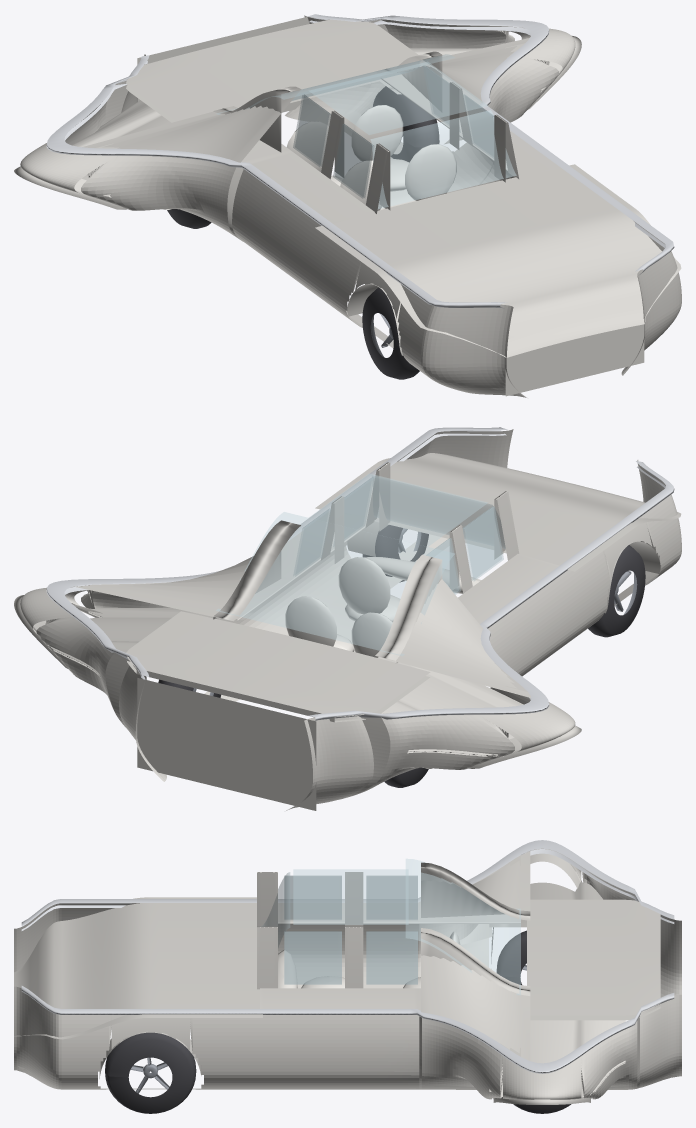
File: ev-sedan-outboard.glb
The picture shows the model from 3 angles, top to bottom: view 1: azimuth 30°, elevation 25°; view 2: azimuth 150°, elevation 25°; view 3: azimuth 270°, elevation 25°; orthographic projection. The views are drawn at different scales.
Parts seen in each view (by area): view 1: BodyHood, BodySide_L, BodyDeck, BodySide_R, Windshield, RoofGlass, BodyCPillar_L, BodyNose, BodyBeltLip_L, BodyBeltLip_R, BodyBeltShelf_L, BodyCPillar_R (+21 smaller); view 2: BodySide_L, BodyDeck, BodyHood, RearWindow, BodyFascia, BodySide_R, BodyCPillar_L, RoofGlass, BodyCPillar_R, BodyBeltLip_L, Windshield, BodyBeltLip_R (+22 smaller); view 3: BodySide_R, BodyHood, BodyDeck, BodySide_L, BodyCPillar_R, RearWindow, RoofGlass, BodyCPillar_L, BodyBeltLip_R, WheelFRTire, BodyBeltLip_L, BodyBeltShelf_L (+17 smaller).
Boxes of the visible parts, x1=… form: BodyHood: x1=315, y1=164, x2=681, y2=357; BodySide_L: x1=20, y1=54, x2=526, y2=397; BodyDeck: x1=126, y1=19, x2=418, y2=122; BodySide_R: x1=285, y1=15, x2=681, y2=375; Windshield: x1=370, y1=110, x2=516, y2=208; RoofGlass: x1=309, y1=62, x2=487, y2=134; BodyCPillar_L: x1=82, y1=86, x2=301, y2=162; BodyNose: x1=505, y1=324, x2=644, y2=396; BodyBeltLip_L: x1=46, y1=55, x2=507, y2=308; BodyBeltLip_R: x1=308, y1=14, x2=674, y2=274; BodyBeltShelf_L: x1=95, y1=140, x2=374, y2=223; BodyCPillar_R: x1=375, y1=38, x2=529, y2=111; BodySide_L: x1=286, y1=460, x2=681, y2=810; BodyDeck: x1=126, y1=611, x2=430, y2=722; BodyHood: x1=315, y1=453, x2=681, y2=571; RearWindow: x1=216, y1=512, x2=454, y2=655; BodyFascia: x1=137, y1=678, x2=316, y2=810; BodySide_R: x1=20, y1=429, x2=513, y2=781; BodyCPillar_L: x1=375, y1=554, x2=530, y2=697; RoofGlass: x1=309, y1=473, x2=487, y2=546; BodyCPillar_R: x1=76, y1=520, x2=300, y2=621; BodyBeltLip_L: x1=308, y1=461, x2=674, y2=720; Windshield: x1=372, y1=475, x2=505, y2=548; BodyBeltLip_R: x1=46, y1=427, x2=507, y2=679; BodySide_R: x1=14, y1=986, x2=681, y2=1099; BodyHood: x1=14, y1=897, x2=262, y2=1039; BodyDeck: x1=527, y1=899, x2=660, y2=1020; BodySide_L: x1=14, y1=848, x2=681, y2=997; BodyCPillar_R: x1=421, y1=928, x2=530, y2=1060; RearWindow: x1=406, y1=859, x2=520, y2=995; RoofGlass: x1=293, y1=869, x2=408, y2=924; BodyCPillar_L: x1=421, y1=851, x2=530, y2=920; BodyBeltLip_R: x1=21, y1=986, x2=674, y2=1073; WheelFRTire: x1=105, y1=1032, x2=196, y2=1113; BodyBeltLip_L: x1=21, y1=840, x2=674, y2=930; BodyBeltShelf_L: x1=278, y1=855, x2=520, y2=923.
Bounding box in the file's own units: 4.06 × 1.2 × 4.4.
